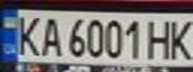0: (103, 16, 127, 60), (84, 16, 106, 58)
1: (121, 16, 145, 60)
6: (63, 15, 87, 57)
A: (36, 14, 63, 57)
H: (145, 16, 175, 61)
K: (12, 11, 45, 57), (166, 16, 193, 61)
